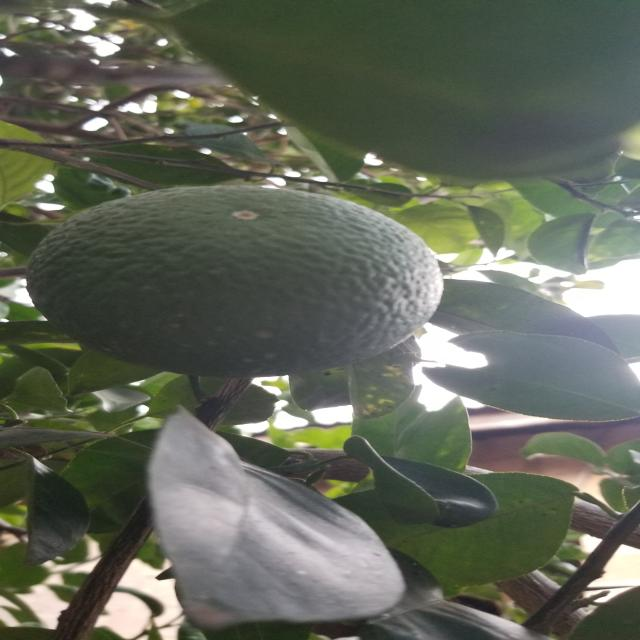Unripe: (16, 186, 457, 384)
